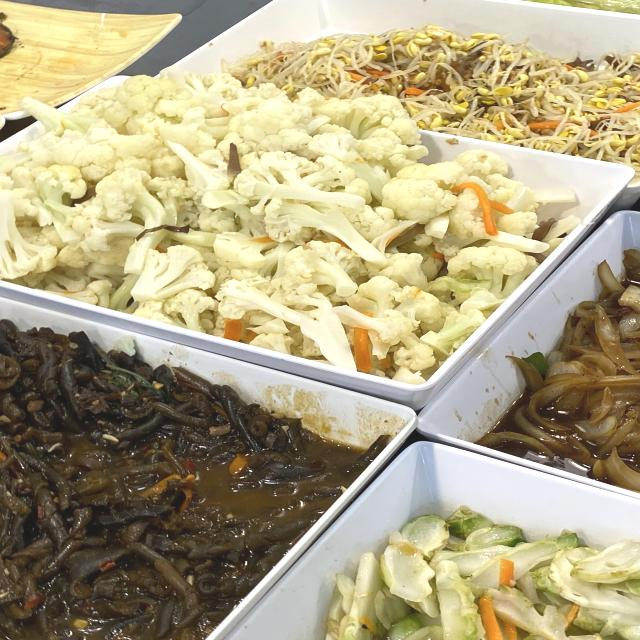cauliflower: (22, 124, 417, 270)
